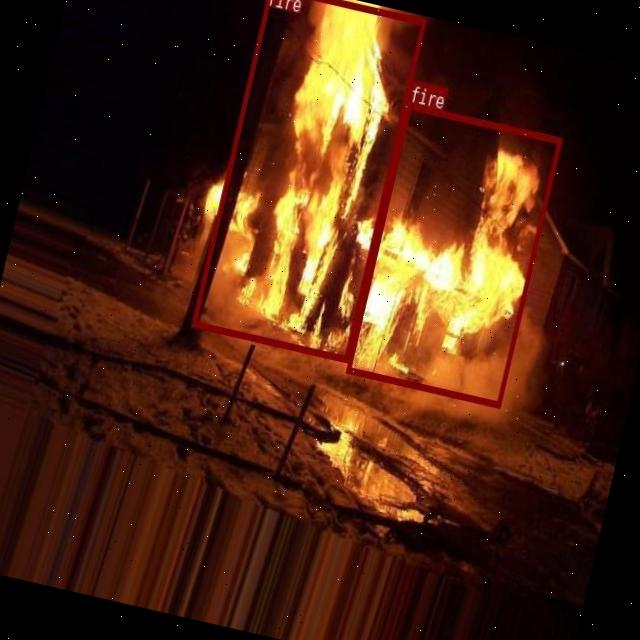fire: (190, 0, 425, 361), (344, 100, 562, 407)
